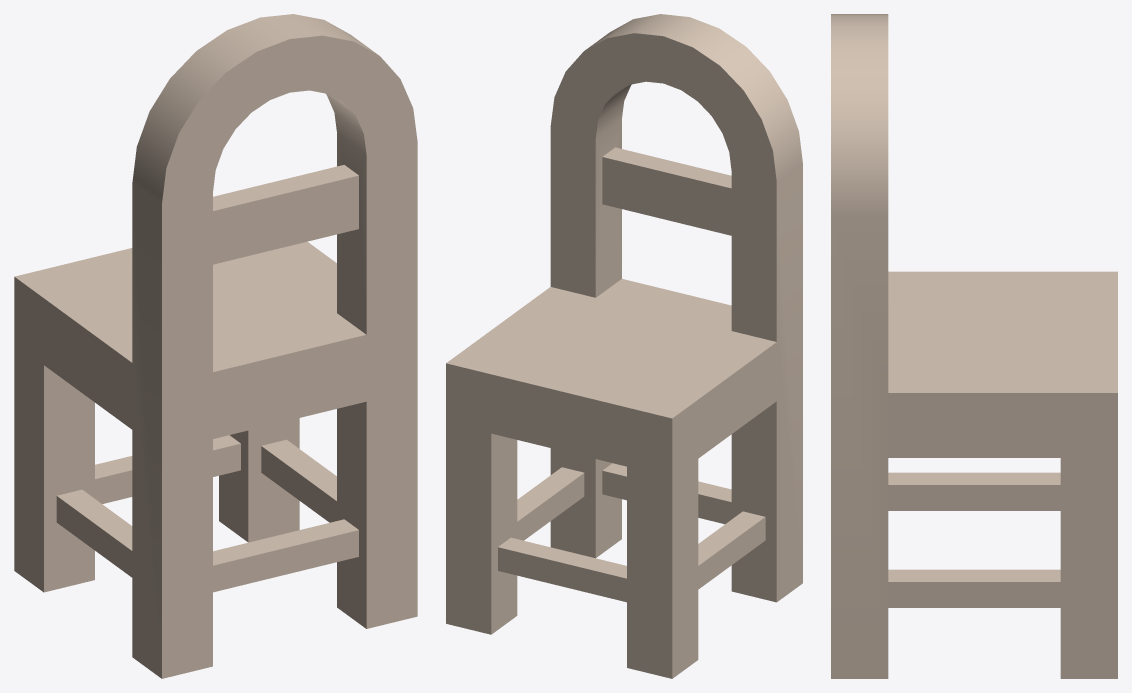
The model's file is furn_chairRounded.glb.
The picture shows the model from 3 angles, left to right: view 1: azimuth 30°, elevation 25°; view 2: azimuth 150°, elevation 25°; view 3: azimuth 270°, elevation 25°; orthographic projection. The views are drawn at different scales.
Bounding box in the file's own units: 0.4 × 0.91 × 0.4.
